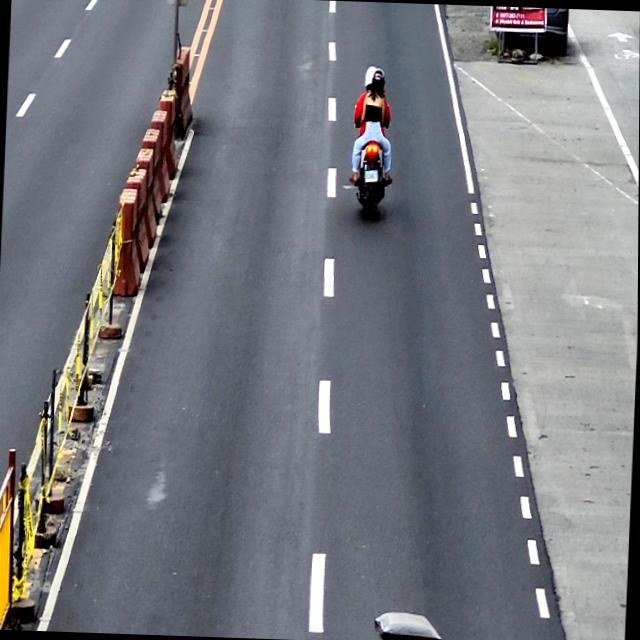License-Plate: (363, 168, 379, 183)
Motorcycle: (349, 97, 390, 218)
